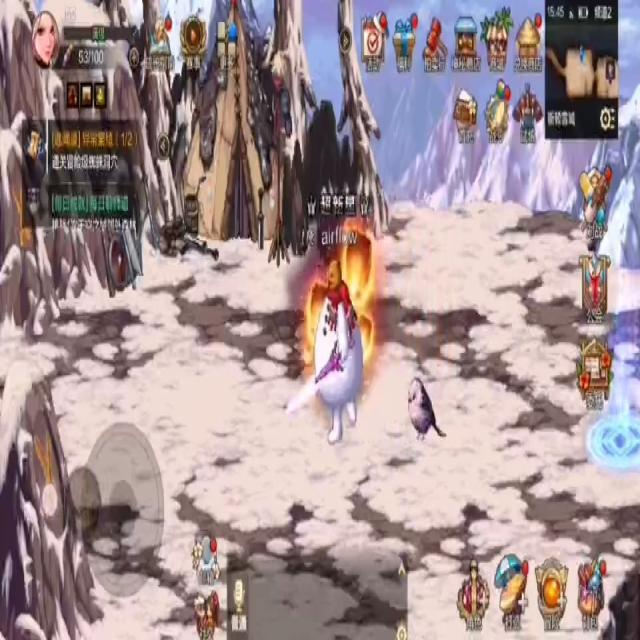player: (314, 261, 365, 446)
